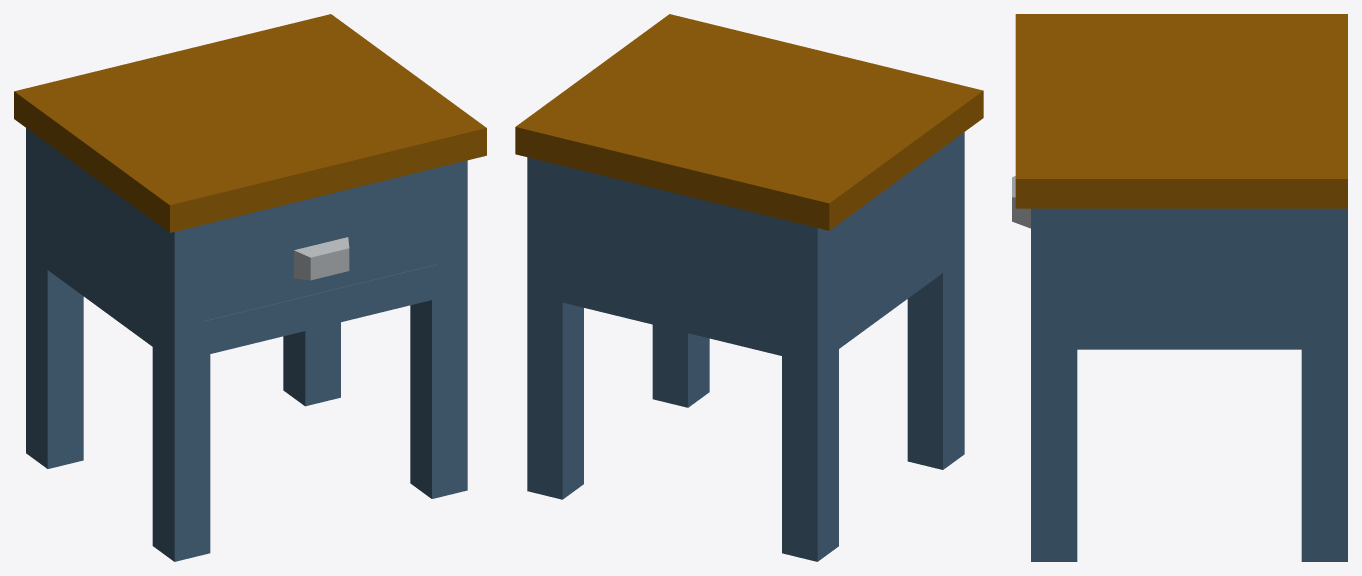
The model's file is nightstand.glb.
3 renders of one model, left to right at view 1: azimuth 30°, elevation 25°; view 2: azimuth 150°, elevation 25°; view 3: azimuth 270°, elevation 25°, orthographic. The views are drawn at different scales.
Visible parts, largest first — view 1: nightstand; view 2: nightstand; view 3: nightstand.
Boxes of the visible parts, x1,y1,x2,y2 form: nightstand: (14,14,486,561); nightstand: (515,14,983,561); nightstand: (1012,14,1347,561).
Bounding box in the file's own units: 0.5 × 0.55 × 0.43.
